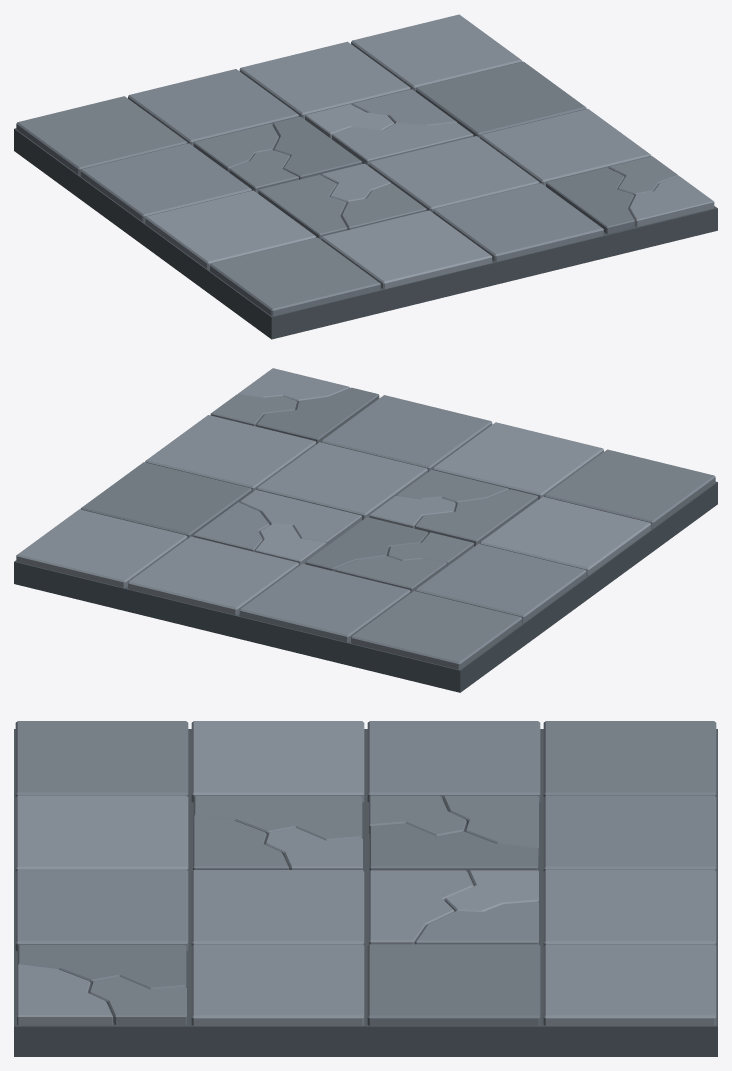
Rendered from MOD_10_Floor_Cracked.glb.
3 views of the same model, one above another, from view 1: azimuth 30°, elevation 25°; view 2: azimuth 150°, elevation 25°; view 3: azimuth 270°, elevation 25° (orthographic). The views are drawn at different scales.
Parts seen in each view (by area): view 1: MOD_10_Floor_Cracked; view 2: MOD_10_Floor_Cracked; view 3: MOD_10_Floor_Cracked.
Boxes of the visible parts, <box> form: MOD_10_Floor_Cracked: <box>14,14,717,339</box>; MOD_10_Floor_Cracked: <box>14,368,717,692</box>; MOD_10_Floor_Cracked: <box>14,721,717,1056</box>.
Bounding box in the file's own units: 4 × 0.25 × 4.
